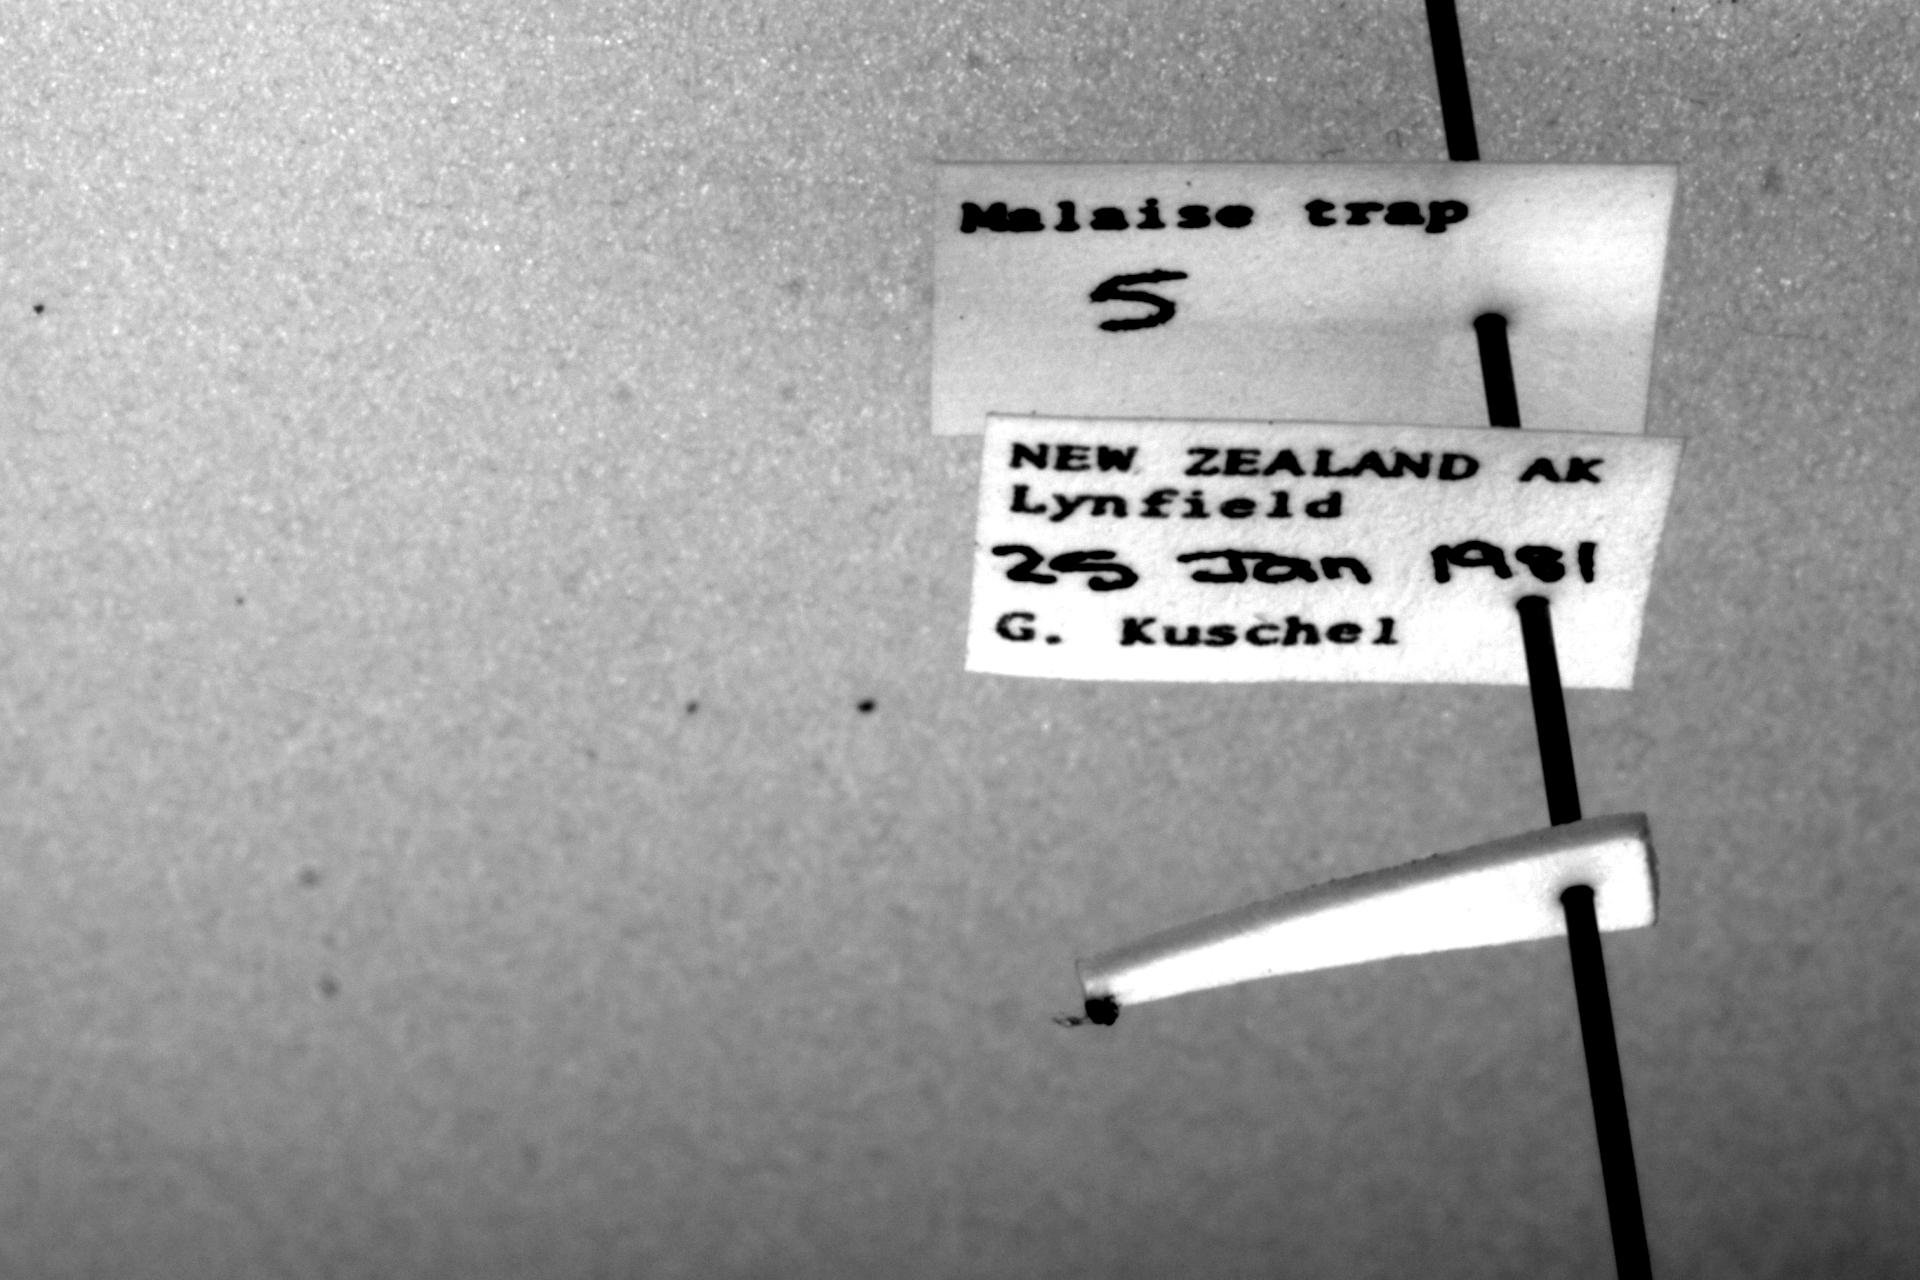mixed_label: (934, 161, 1676, 434), (967, 414, 1680, 689)
